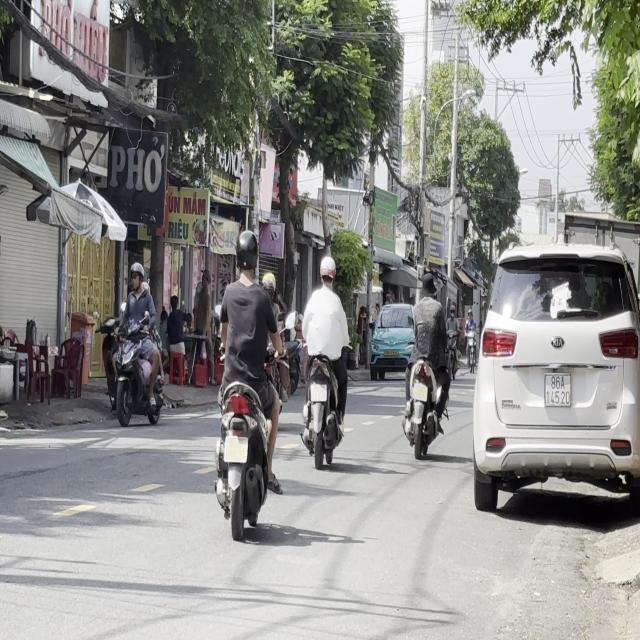helmet: (234, 228, 259, 279), (318, 254, 336, 287), (128, 260, 144, 290)
licenseplate: (210, 227, 284, 536), (298, 253, 350, 466), (113, 254, 174, 431), (400, 270, 450, 458)
motorcyclist: (420, 270, 434, 298)
nohelmet: (224, 434, 248, 463), (310, 383, 327, 402), (412, 382, 428, 402)
